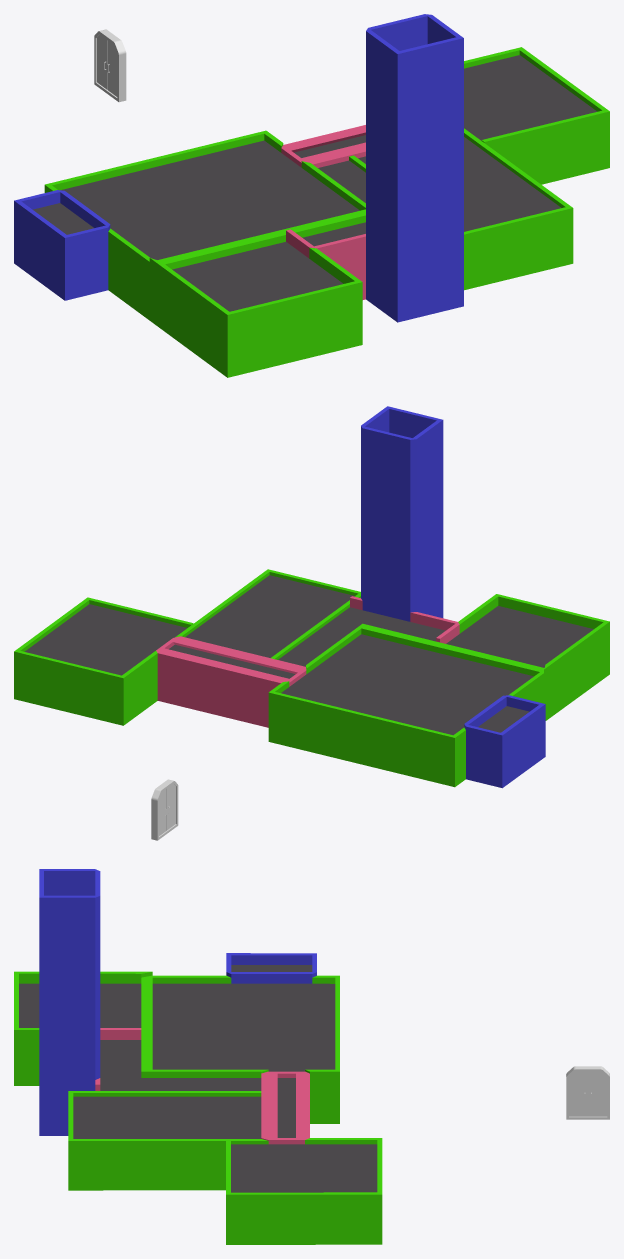
File: TestLab.fbx
3 views of the same model, one above another, from view 1: azimuth 30°, elevation 25°; view 2: azimuth 150°, elevation 25°; view 3: azimuth 270°, elevation 25° (orthographic). The views are drawn at different scales.
Parts seen in each view (by area): view 1: roof, Elivator, Observation, Main Lab, Servers, Closit, Chimics, Door1, Halway2, Hallway; view 2: roof, Elivator, Main Lab, Chimics, Halway2, Observation, Closit, Servers, Door1, Hallway; view 3: roof, Elivator, Servers, Chimics, Main Lab, Observation, Halway2, Door1, Closit, Hallway.
Part boxes in pixels (box(x1,y1,x2,y2)): roof: box(33, 55, 597, 311); Elivator: box(366, 14, 463, 322); Observation: box(149, 247, 362, 377); Main Lab: box(44, 130, 365, 320); Servers: box(349, 128, 573, 290); Closit: box(14, 190, 110, 300); Chimics: box(464, 47, 609, 184); Door1: box(94, 29, 126, 102); Halway2: box(281, 125, 365, 167); Hallway: box(286, 229, 365, 299); roof: box(24, 575, 593, 735); Elivator: box(361, 406, 443, 621); Main Lab: box(268, 623, 544, 787); Chimics: box(14, 597, 193, 725); Halway2: box(156, 636, 306, 727); Observation: box(458, 594, 609, 720); Closit: box(464, 695, 545, 788); Servers: box(175, 569, 360, 659); Door1: box(151, 779, 178, 840); Hallway: box(350, 596, 459, 643); roof: box(19, 965, 377, 1192); Elivator: box(39, 869, 100, 1135); Servers: box(68, 1091, 268, 1190); Chimics: box(226, 1138, 382, 1244); Main Lab: box(141, 975, 339, 1123); Observation: box(14, 971, 152, 1085); Halway2: box(261, 1071, 309, 1144); Door1: box(566, 1066, 609, 1119); Closit: box(226, 953, 316, 983); Hallway: box(95, 1028, 141, 1090).
Size of the model in its own units: 11000 by 5208 by 11739.
